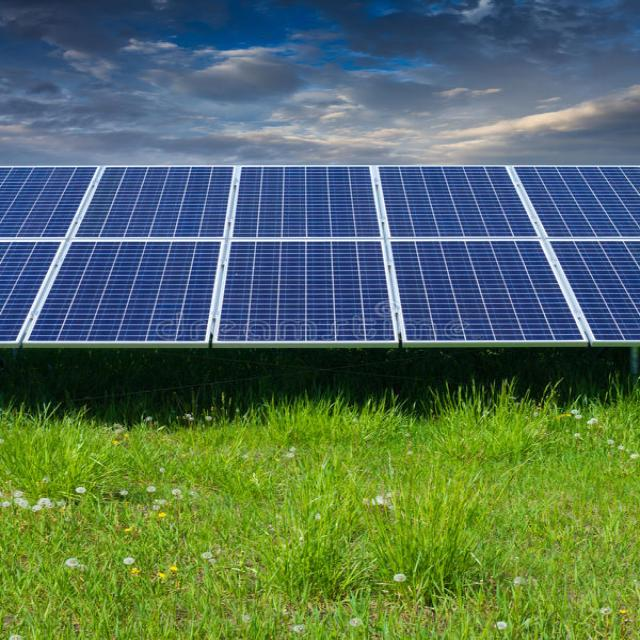clean-solar-panel: (0, 165, 639, 347)
